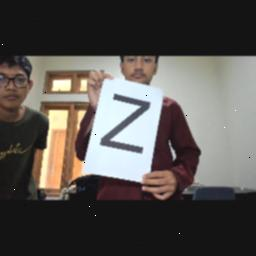z: (98, 91, 152, 155)
